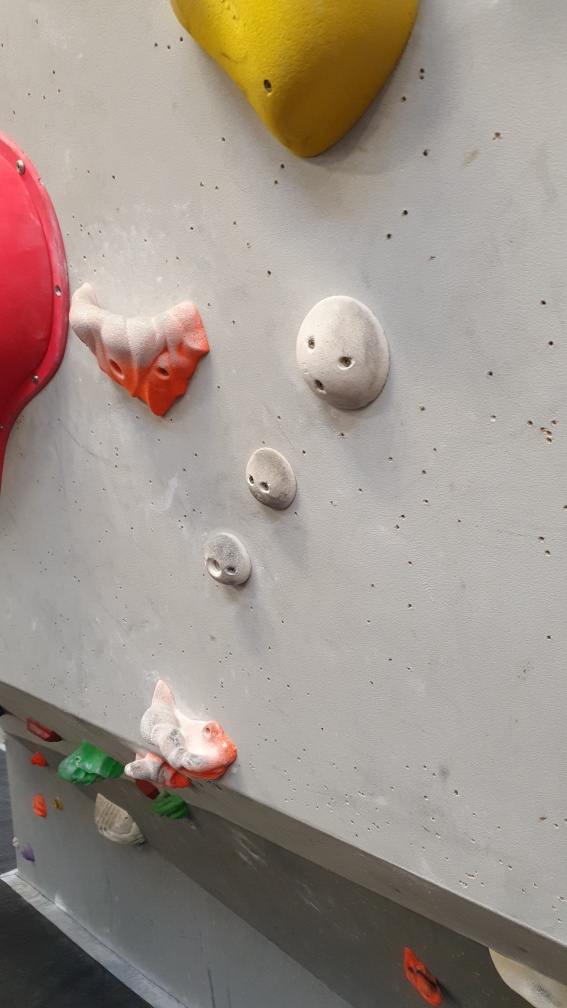Jug: (67, 277, 213, 423), (140, 679, 241, 787)
Sloper: (292, 295, 392, 411), (245, 447, 299, 511), (203, 528, 253, 592)
